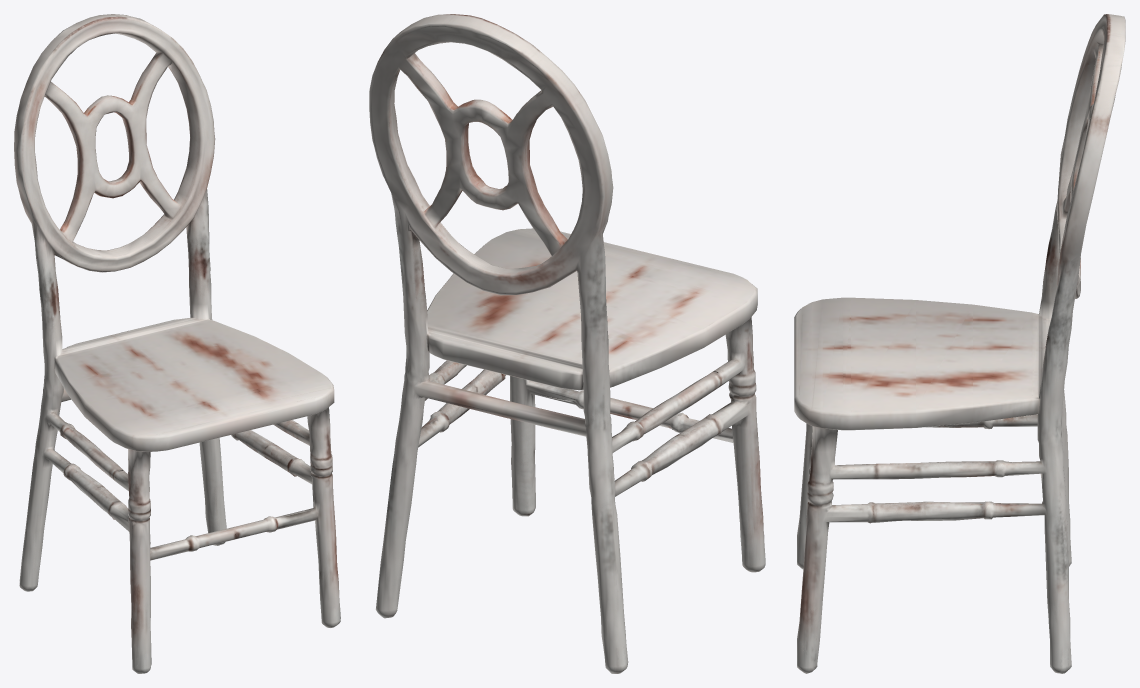
File: Chair_Veronica_Limew_0320031507_texture.glb
The picture shows the model from 3 angles, left to right: view 1: azimuth 30°, elevation 25°; view 2: azimuth 150°, elevation 25°; view 3: azimuth 270°, elevation 25°; orthographic projection. The views are drawn at different scales.
Parts seen in each view (by area): view 1: Mesh_0.001; view 2: Mesh_0.001; view 3: Mesh_0.001.
Boxes of the visible parts, box(x1,y1,x2,y2) form: Mesh_0.001: box(14, 14, 340, 673); Mesh_0.001: box(369, 14, 765, 673); Mesh_0.001: box(794, 14, 1125, 673).
Size of the model in its own units: 0.3849 by 0.9144 by 0.46.
1 material, 1 textured.
